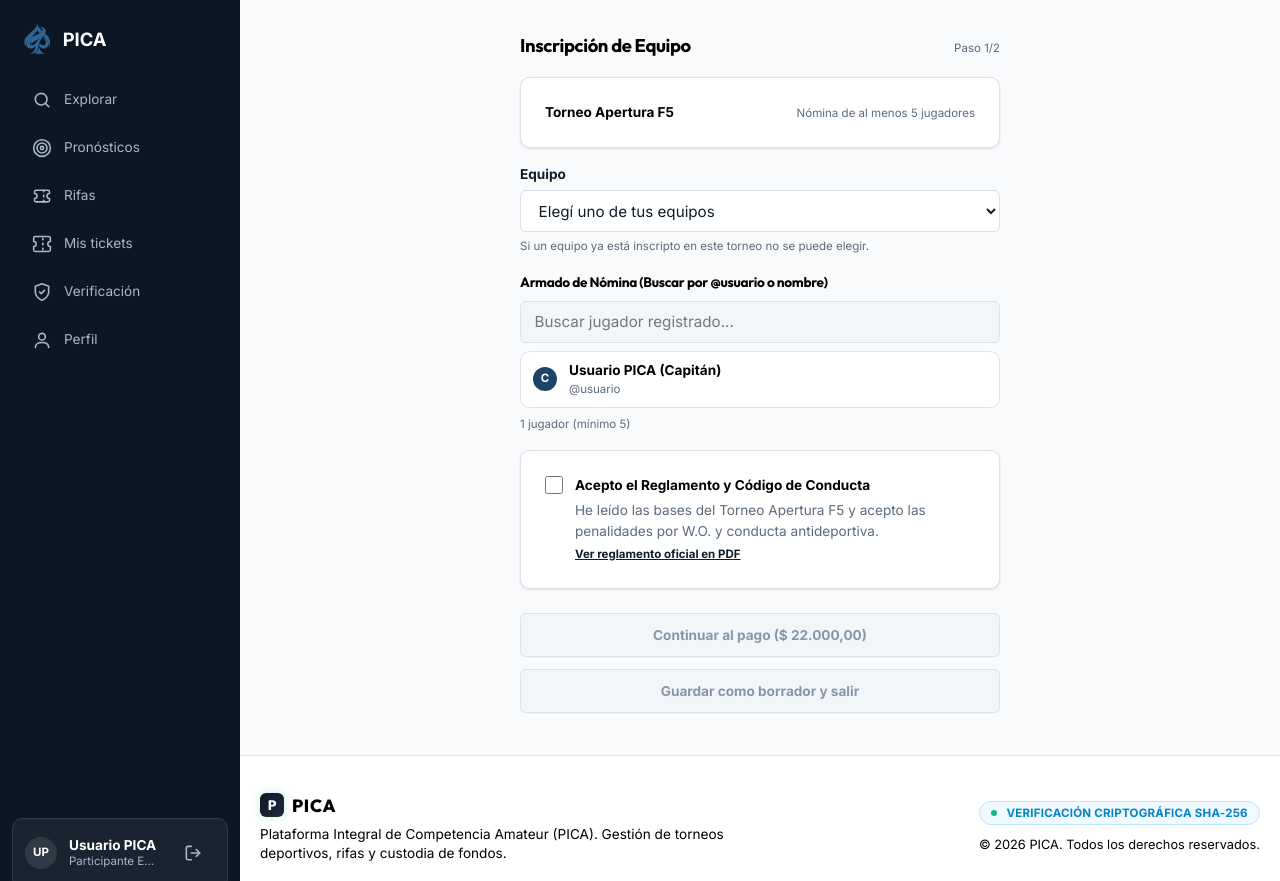
Test: paso 1: equipo y nómina (alta) › la búsqueda espera al menos tres letras y muestra nombre y @usuario de cada jugador
Type "lu" into the search field labelled "Buscar jugador registrado..." at (760, 322), box [520,301,1000,343]
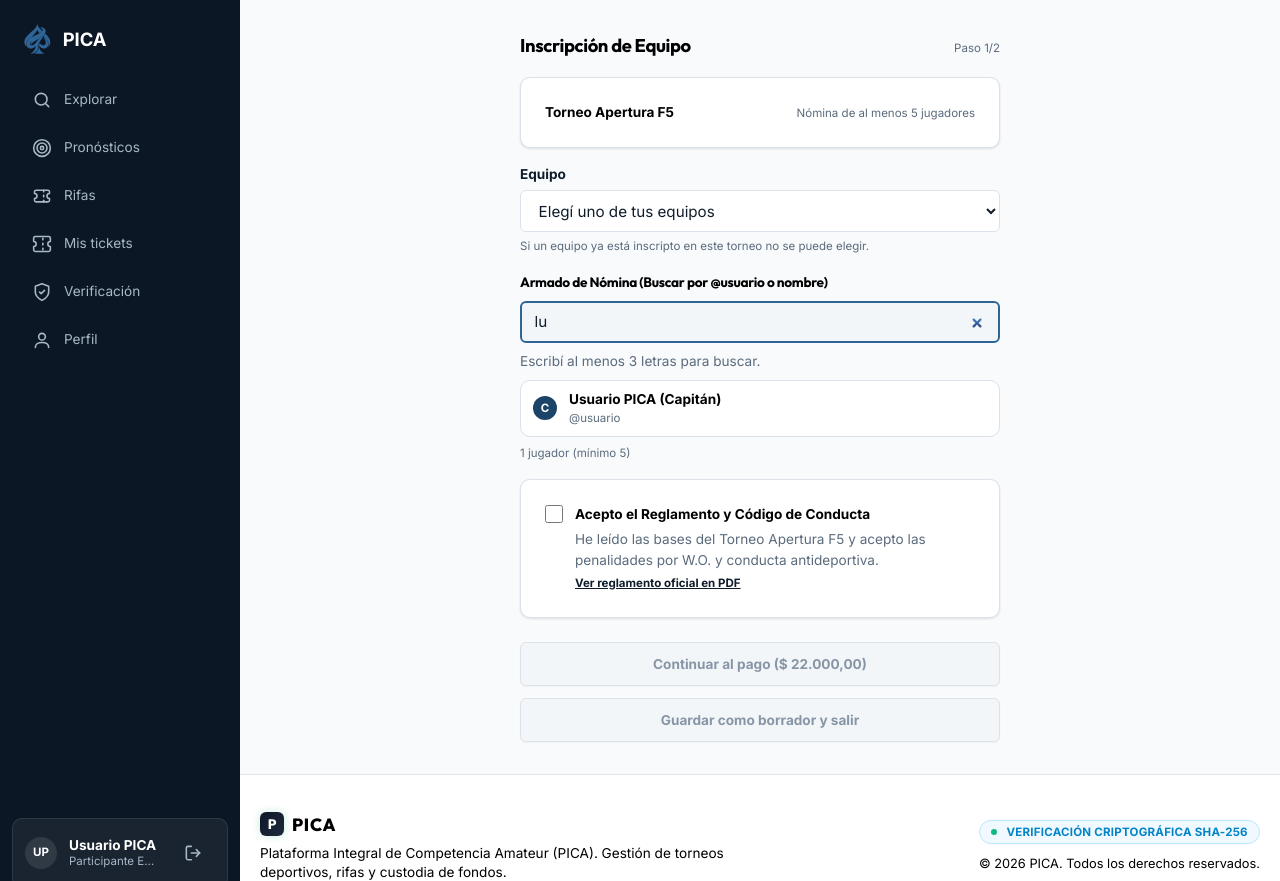
Check: the text "Lucas Fernández" is not shown
Check: the text "Escribí al menos 3 letras para buscar." is shown, box [520,353,760,369]
Type "c" into the search field named "Buscar jugador" at (760, 322), box [520,301,1000,343]
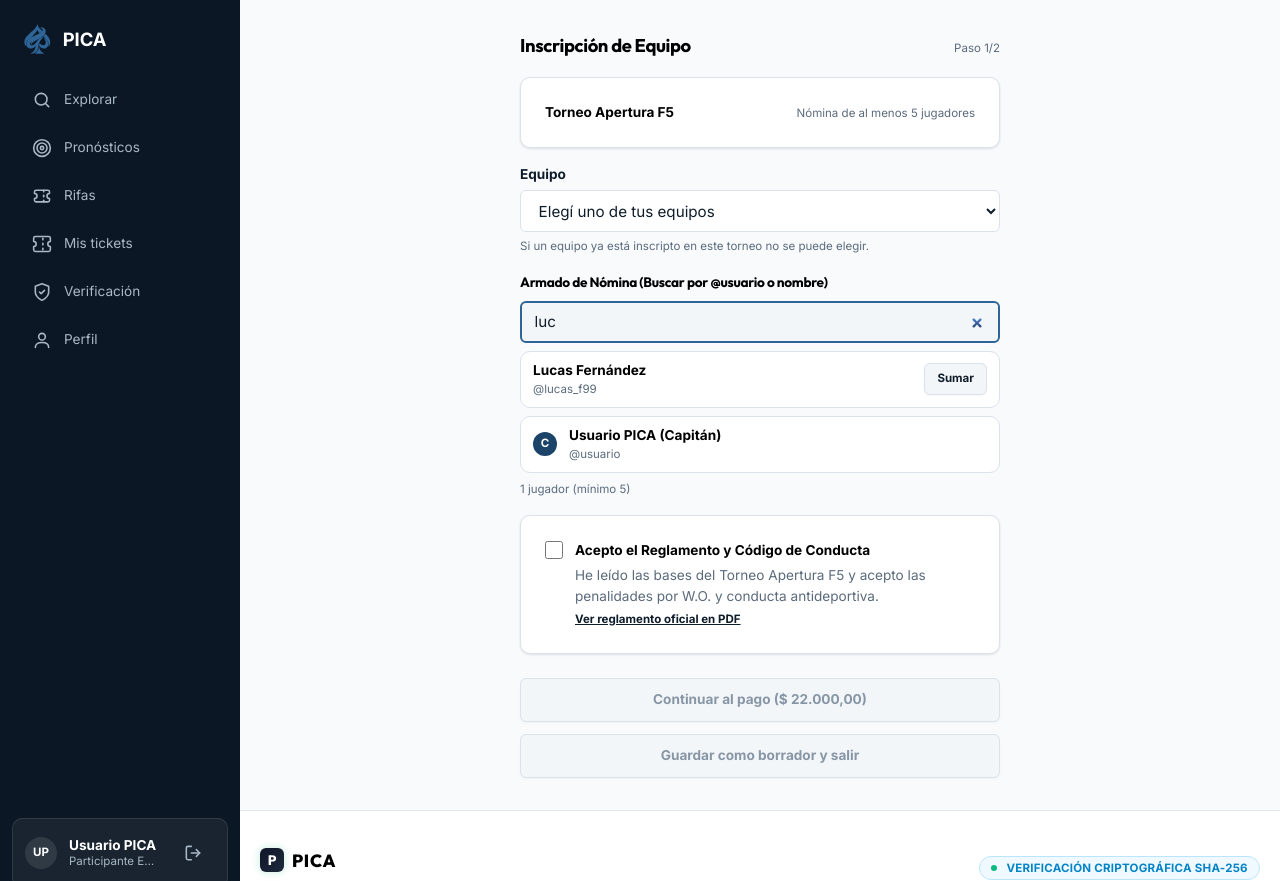
Check: the text "@lucas_f99" is shown, box [533,382,597,396]
Check: the text "Escribí al menos 3 letras para buscar." is gone
